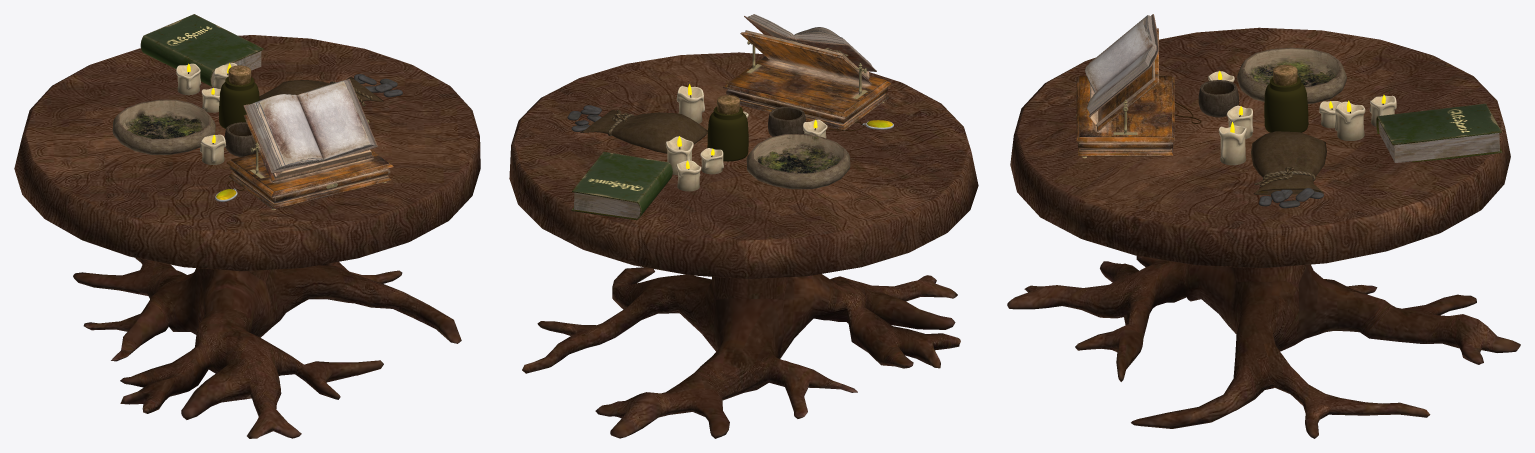
Rendered from table.gltf.
3 renders of one model, left to right at view 1: azimuth 30°, elevation 25°; view 2: azimuth 150°, elevation 25°; view 3: azimuth 270°, elevation 25°, orthographic. The views are drawn at different scales.
Visible parts, largest first — view 1: root_table_LP_Material #5_0, Object_2, Object_4, book_LP, midi_bowl_LP, Flasche_LP, Bag_w_runes_LP, small_bowl_LP, Candle_LP_1, Candle_LP_3; view 2: root_table_LP_Material #5_0, Object_4, book_LP, midi_bowl_LP, Bag_w_runes_LP, Flasche_LP, Object_2, small_bowl_LP, Candle_LP_2, Candle_LP_5, Candle_LP_1, Candle_LP_4; view 3: root_table_LP_Material #5_0, Object_4, book_LP, Bag_w_runes_LP, midi_bowl_LP, Object_2, Flasche_LP, small_bowl_LP, Candle_LP_5, Candle_LP_2, Candle_LP_6, Candle_LP_1.
Part boxes in pixels (bbox=[...]): root_table_LP_Material #5_0: bbox=[14, 35, 480, 438]; Object_2: bbox=[243, 79, 377, 173]; Object_4: bbox=[226, 114, 393, 210]; book_LP: bbox=[140, 14, 264, 86]; midi_bowl_LP: bbox=[112, 99, 215, 154]; Flasche_LP: bbox=[219, 65, 259, 128]; Bag_w_runes_LP: bbox=[259, 74, 402, 106]; small_bowl_LP: bbox=[224, 122, 258, 156]; Candle_LP_1: bbox=[176, 63, 201, 95]; Candle_LP_3: bbox=[200, 134, 226, 164]; root_table_LP_Material #5_0: bbox=[509, 52, 978, 438]; Object_4: bbox=[723, 30, 891, 130]; book_LP: bbox=[571, 151, 672, 220]; midi_bowl_LP: bbox=[746, 134, 850, 189]; Bag_w_runes_LP: bbox=[567, 105, 707, 153]; Flasche_LP: bbox=[707, 95, 748, 161]; Object_2: bbox=[744, 14, 876, 71]; small_bowl_LP: bbox=[768, 106, 805, 136]; Candle_LP_2: bbox=[676, 86, 704, 123]; Candle_LP_5: bbox=[665, 136, 693, 175]; Candle_LP_1: bbox=[676, 160, 701, 191]; Candle_LP_4: bbox=[700, 148, 723, 174]; root_table_LP_Material #5_0: bbox=[1007, 27, 1520, 438]; Object_4: bbox=[1076, 28, 1174, 158]; book_LP: bbox=[1376, 103, 1502, 162]; Bag_w_runes_LP: bbox=[1251, 131, 1326, 208]; midi_bowl_LP: bbox=[1237, 47, 1346, 103]; Object_2: bbox=[1085, 14, 1159, 117]; Flasche_LP: bbox=[1264, 64, 1308, 132]; small_bowl_LP: bbox=[1198, 80, 1238, 117]; Candle_LP_5: bbox=[1335, 101, 1365, 140]; Candle_LP_2: bbox=[1218, 125, 1246, 165]; Candle_LP_6: bbox=[1226, 105, 1253, 138]; Candle_LP_1: bbox=[1369, 95, 1396, 126].
Size of the model in its own units: 1.83 by 1.25 by 1.86.
Materials: 17 (17 with a texture image).
